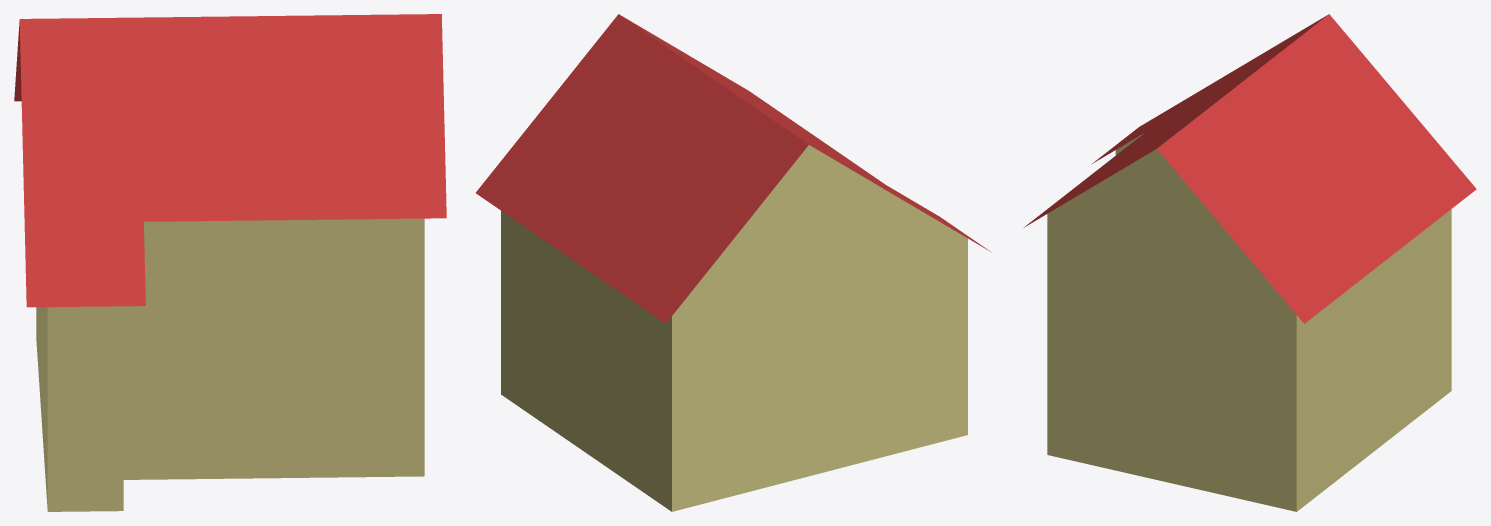
The picture shows the model from 3 angles, left to right: view 1: azimuth 30°, elevation 25°; view 2: azimuth 150°, elevation 25°; view 3: azimuth 270°, elevation 25°; orthographic projection. The views are drawn at different scales.
Visible parts, largest first — view 1: group_5, group_3, group_4; view 2: group_5, group_3, group_4; view 3: group_5, group_3, group_4.
Boxes of the visible parts, x1,y1,x2,y2 form: group_5: (36, 218, 424, 511); group_3: (14, 14, 446, 307); group_4: (14, 14, 446, 305); group_5: (501, 145, 967, 511); group_3: (476, 15, 991, 323); group_4: (476, 14, 950, 291); group_5: (1047, 133, 1451, 511); group_3: (1048, 14, 1476, 323); group_4: (1024, 15, 1429, 323).
Bounding box in the file's own units: 20.22 × 18.33 × 15.13.
